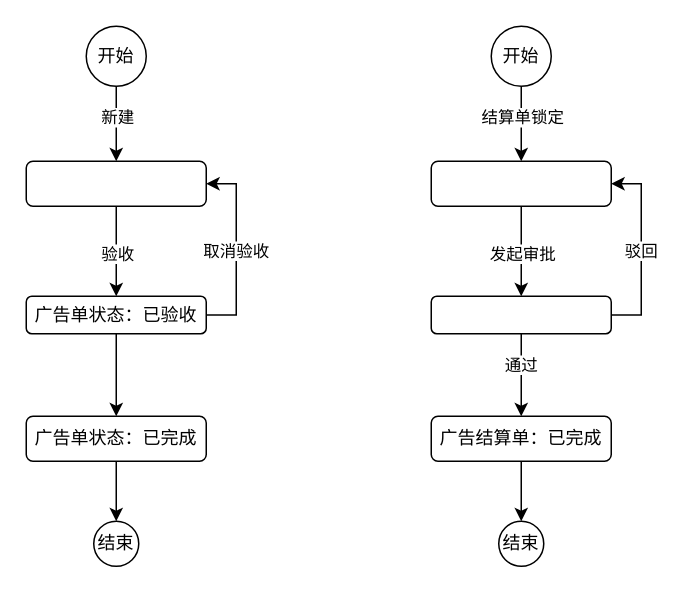
Some shapes in this 683 by 593 pixel diagram are drawn without their labels. Here are the shapes that lost their labels. From the top down, the centre of each, then its label:
At point (115, 183): "广告单状态：执行中".
At point (520, 183): "广告结算单：草稿".
At point (520, 314): "广告结算单：审批中".
